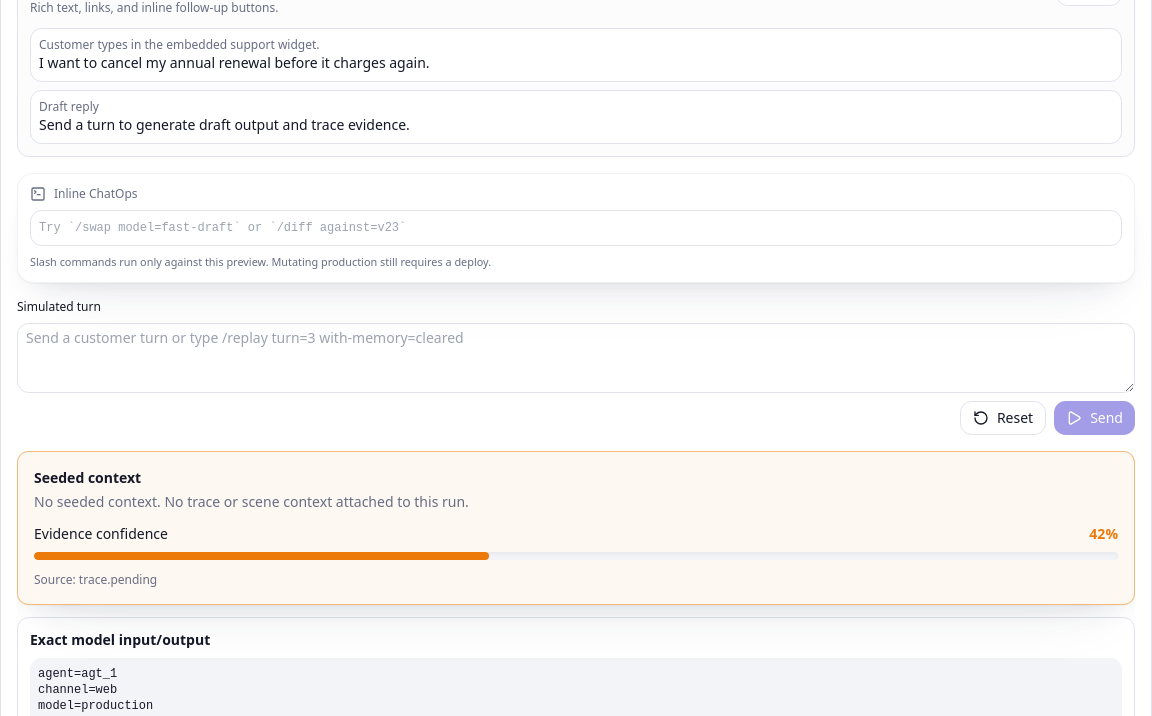
EmulatorPanel › renders an error tile when the request rejects
(page scrolled)
Step 1. Replace the text in the text box with test id "emulator-input" with "anyone there?" → (576, 358), box [17, 323, 1135, 393]
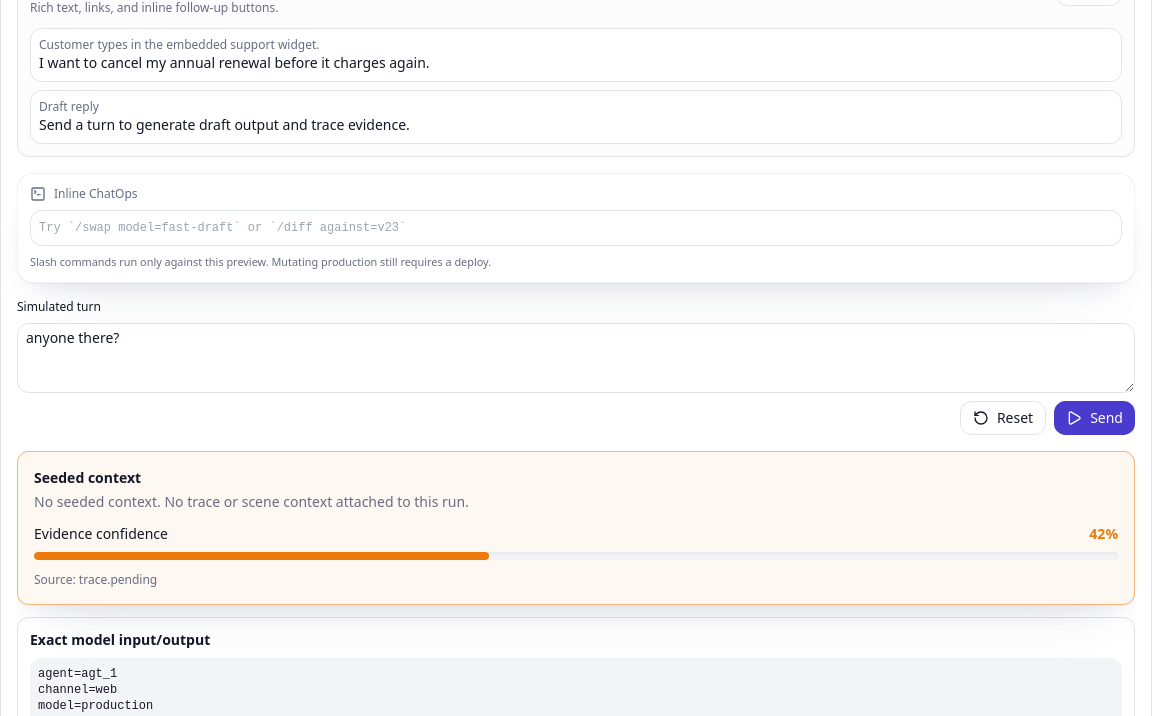
Step 2. Click the button with test id "emulator-send" → (1095, 418), box [1054, 401, 1135, 435]
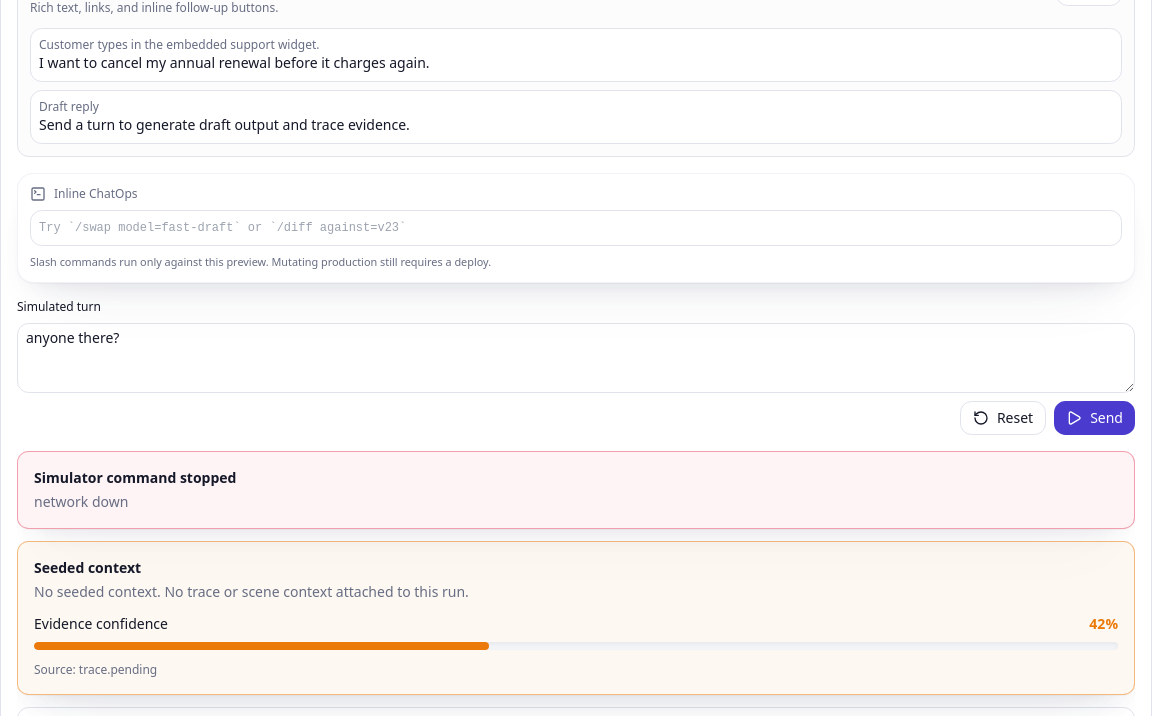
expect the text with test id "emulator-error" reads "network down": met, box [34, 492, 128, 511]
